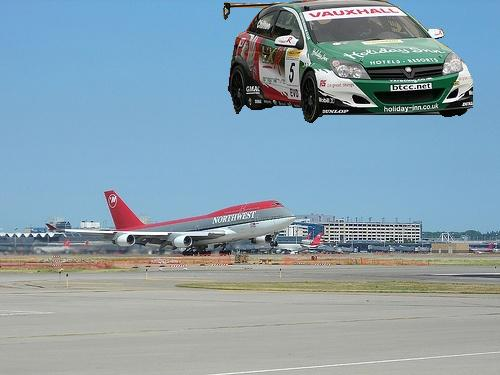tampered: (224, 1, 473, 123)
